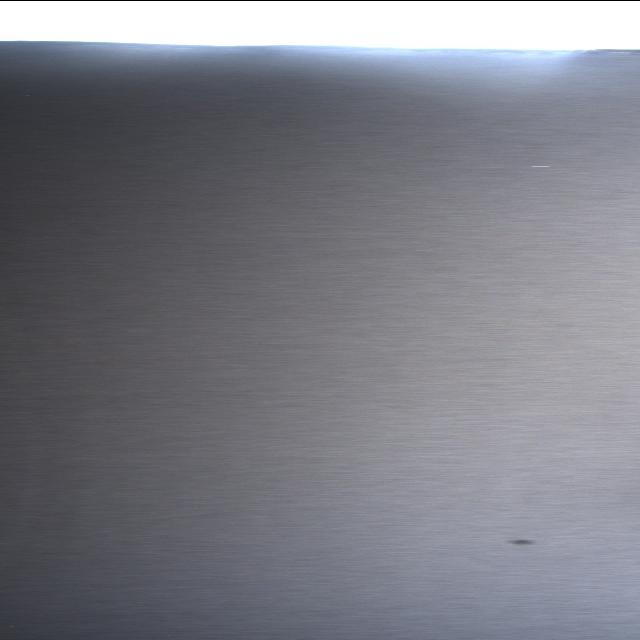whiteDefect: (527, 163, 554, 167)
